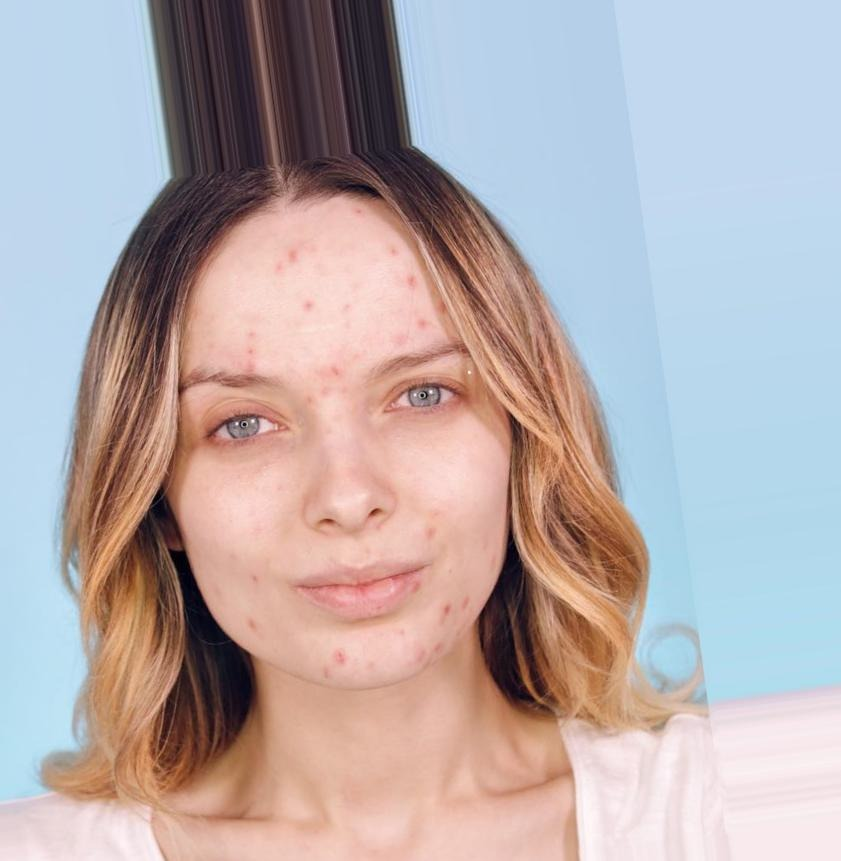Acne: (173, 223, 495, 700)
